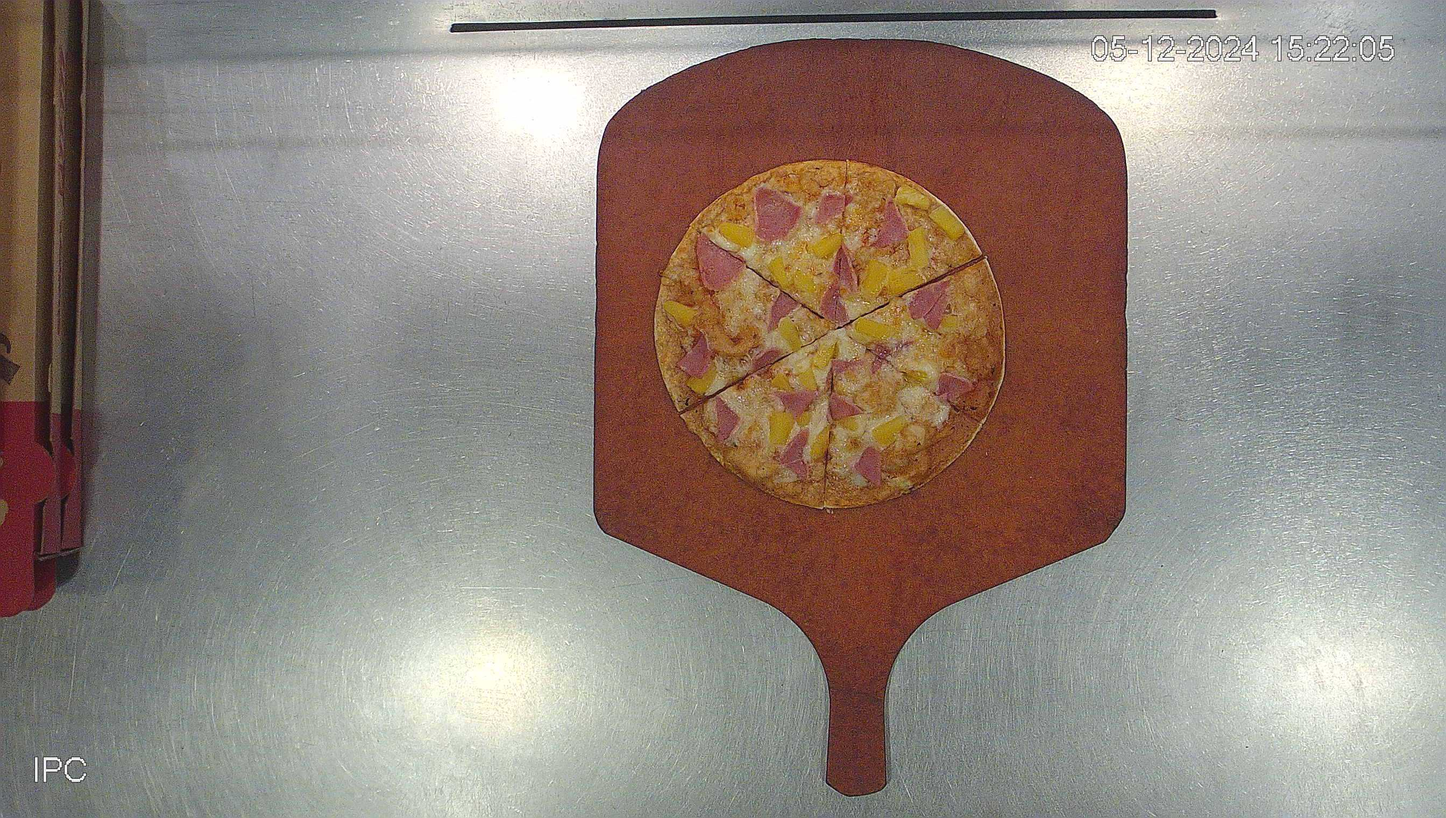manager_choice: (654, 158, 1006, 509)
